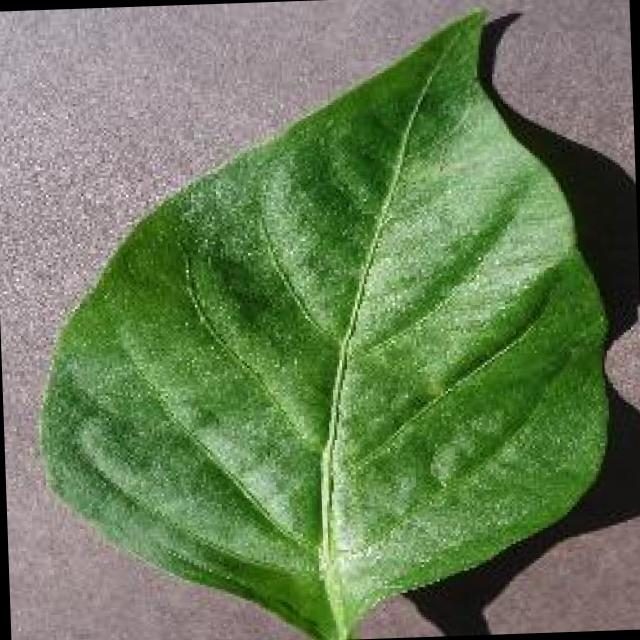Chilli_Healthy: (21, 0, 620, 640)
